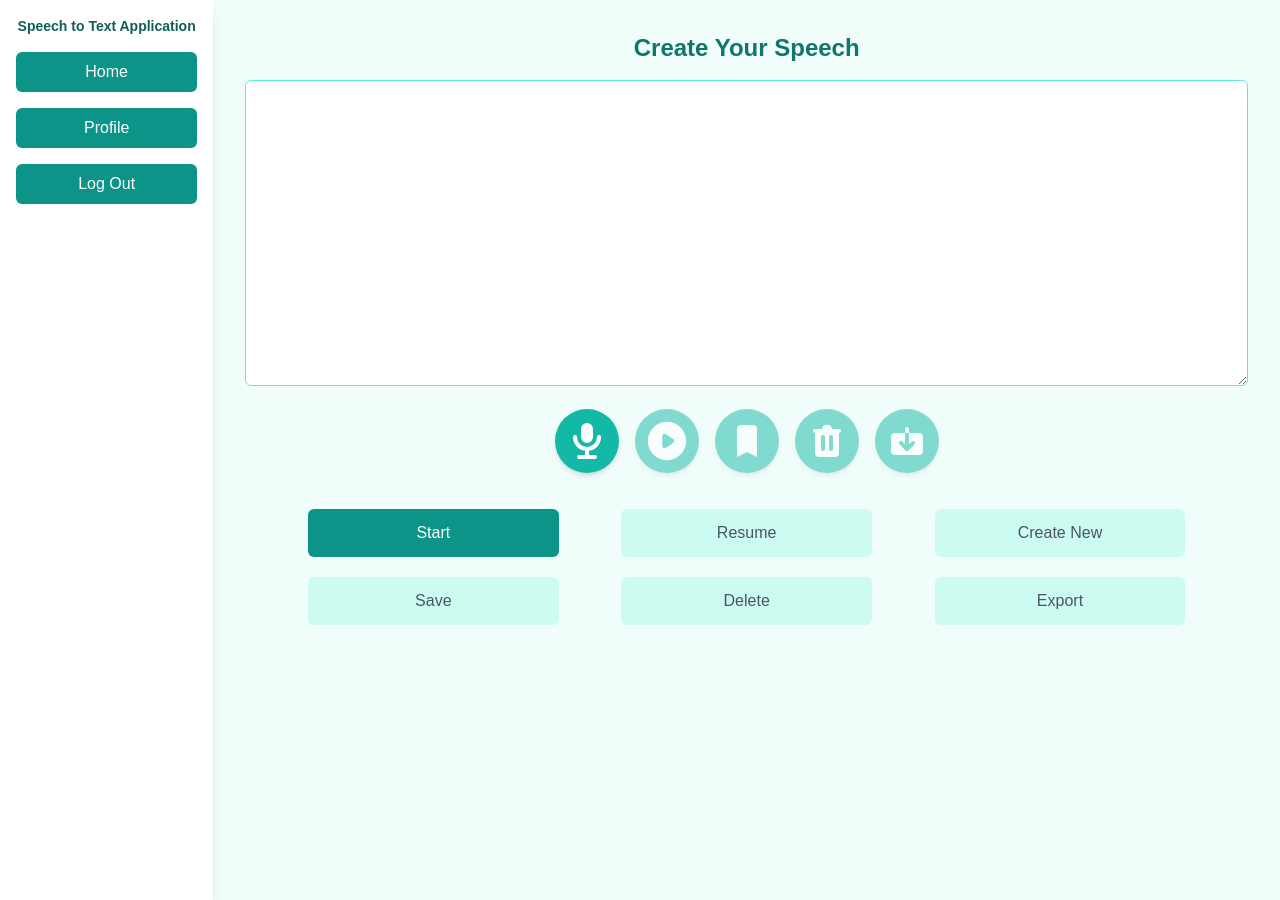
Test: Create Component › handles pause/resume functionality
Step 1. Click the button "Start" → x=433, y=533, box [308,509,559,557]
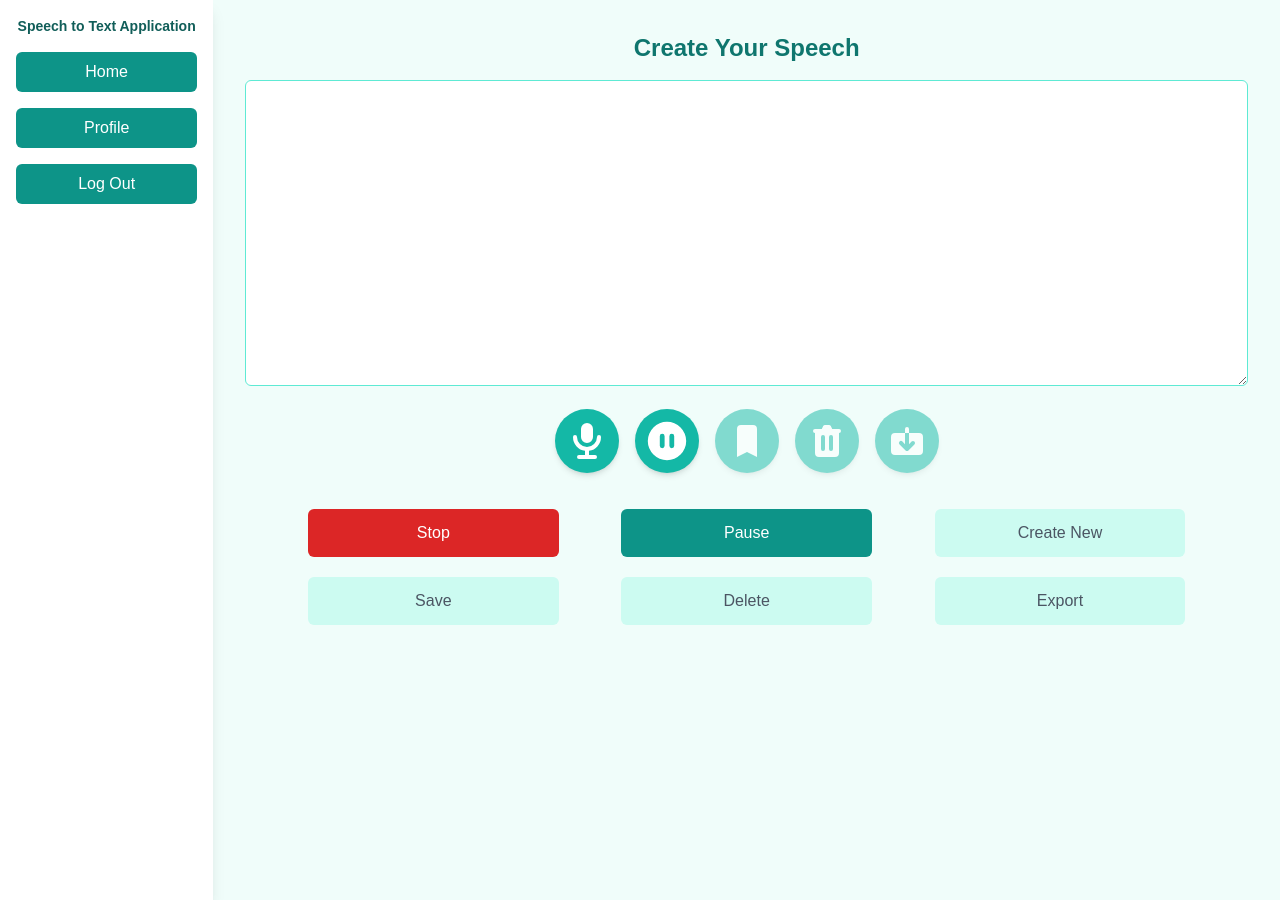
Step 2. Click the button "Pause" → x=747, y=533, box [621,509,872,557]
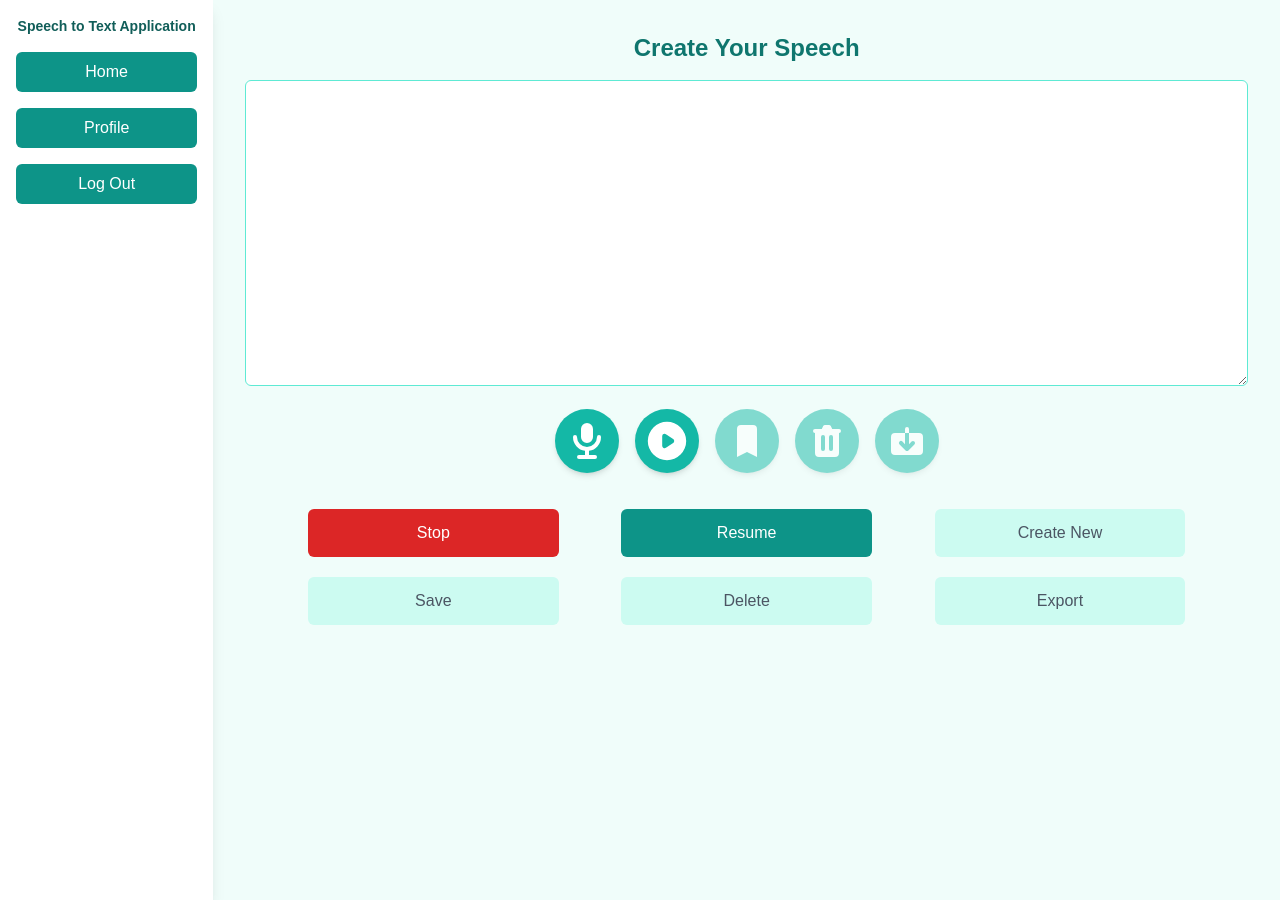
expect the button "Resume" is shown: met
Step 3. Click the button "Resume" → x=747, y=533, box [621,509,872,557]
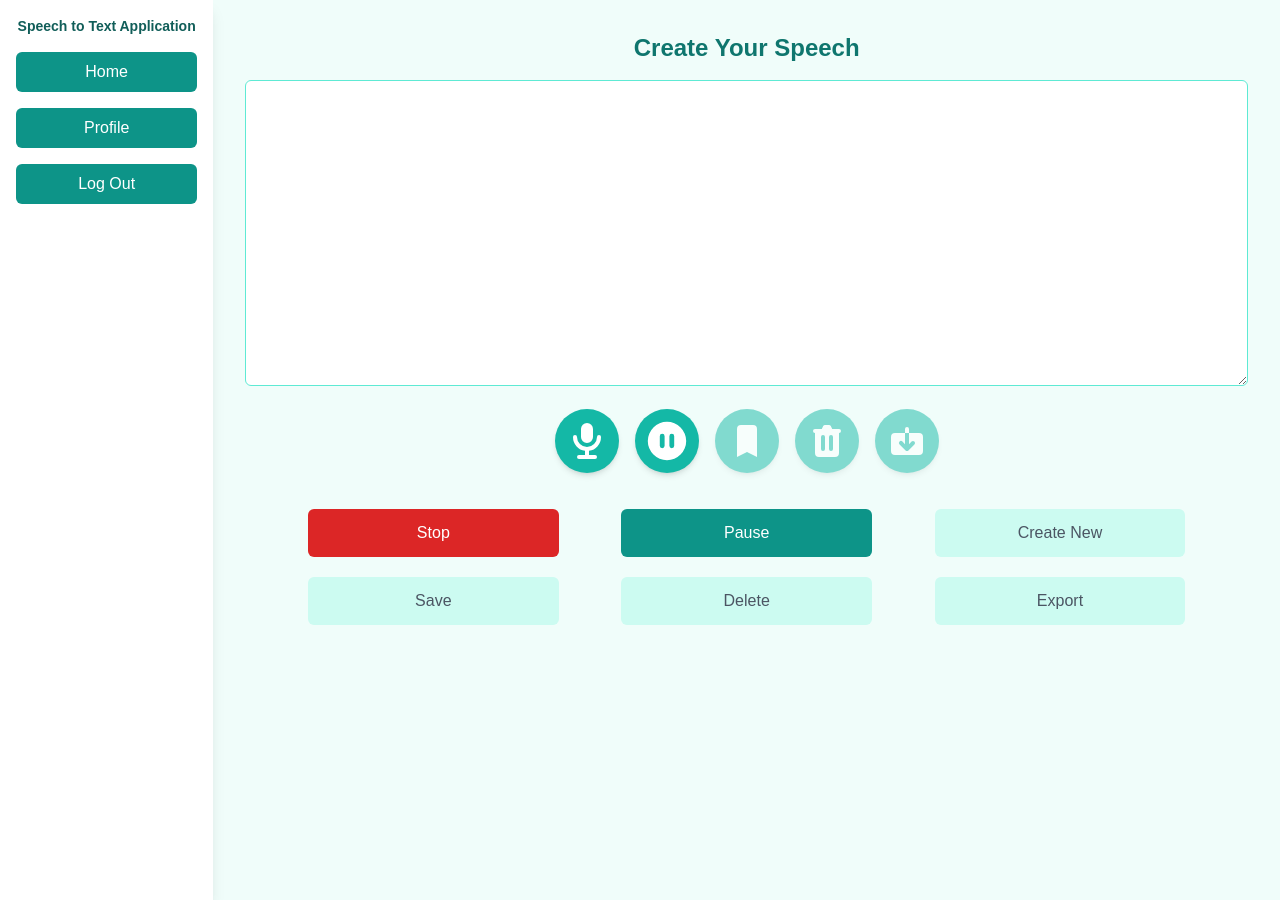
expect the button "Pause" is shown: met, box [621,509,872,557]
